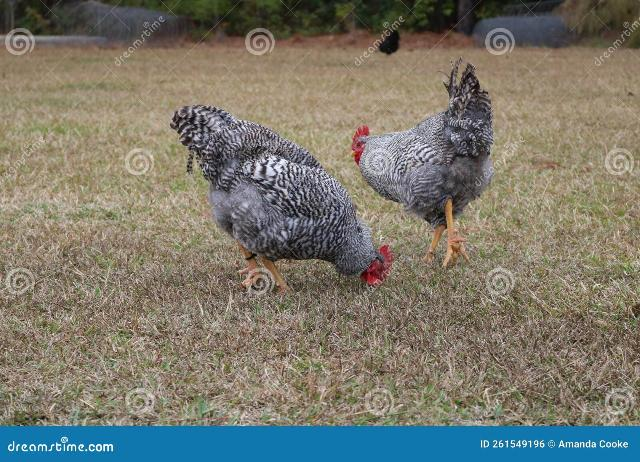Chicken: (171, 103, 394, 292), (351, 59, 494, 267)
